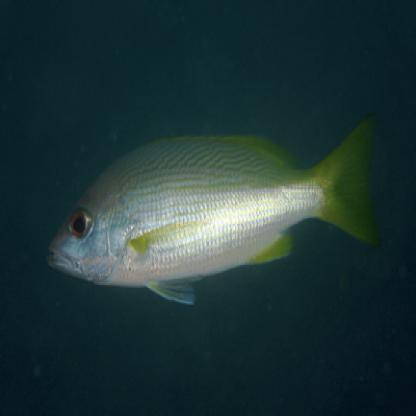snapper: (43, 105, 386, 315)
